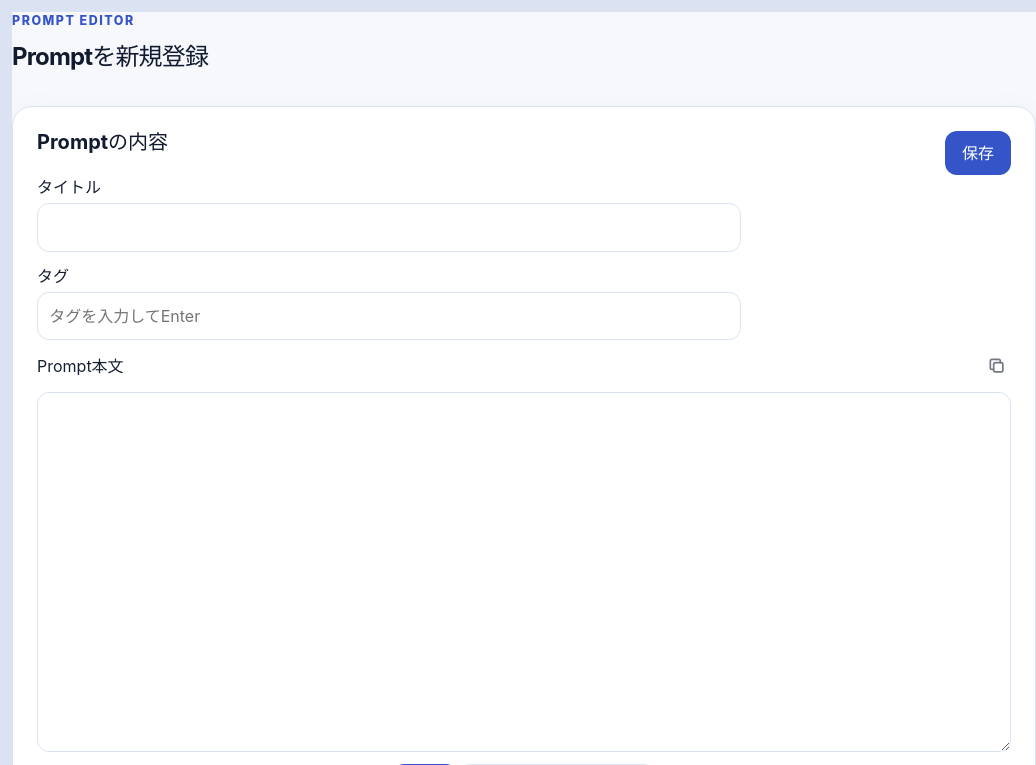
Test: PromptEditorPage › shows copy button with correct aria-label, copies draft body text, and shows check icon on success
Expected: the button named "Prompt本文をコピー" is shown, [983,352,1011,380]
In the text box labelled "Prompt本文": coordinates (524, 572) [37,392,1011,752], type "コピー対象テキスト"
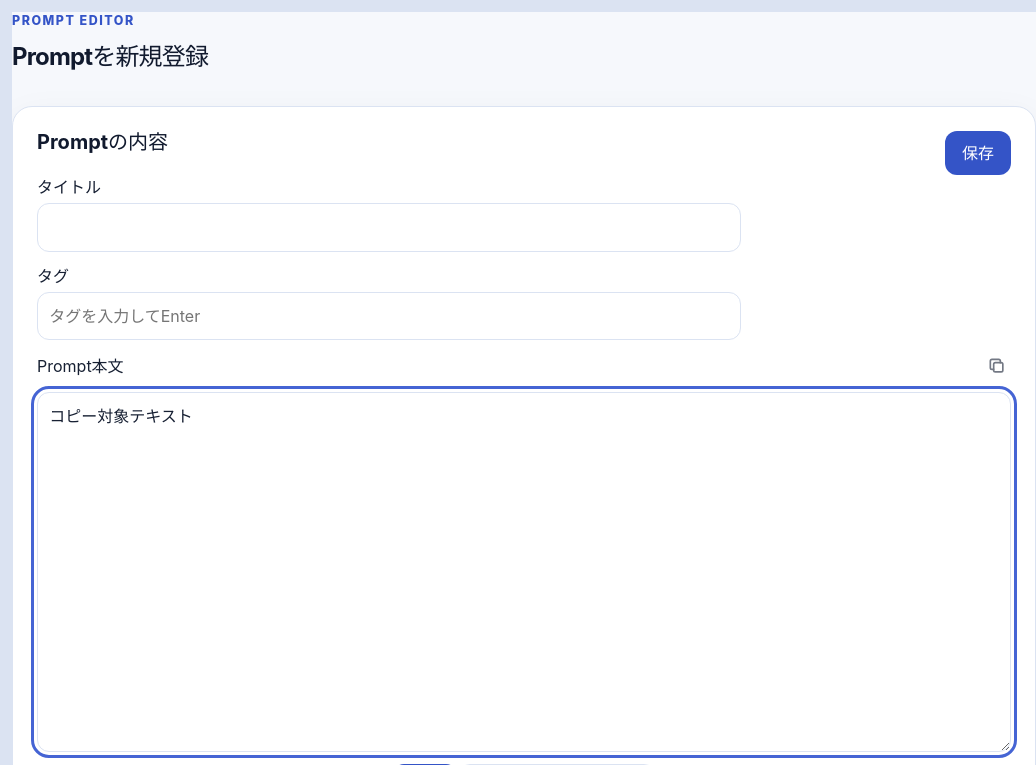
Click the button named "Prompt本文をコピー": coordinates (997, 366) [983,352,1011,380]
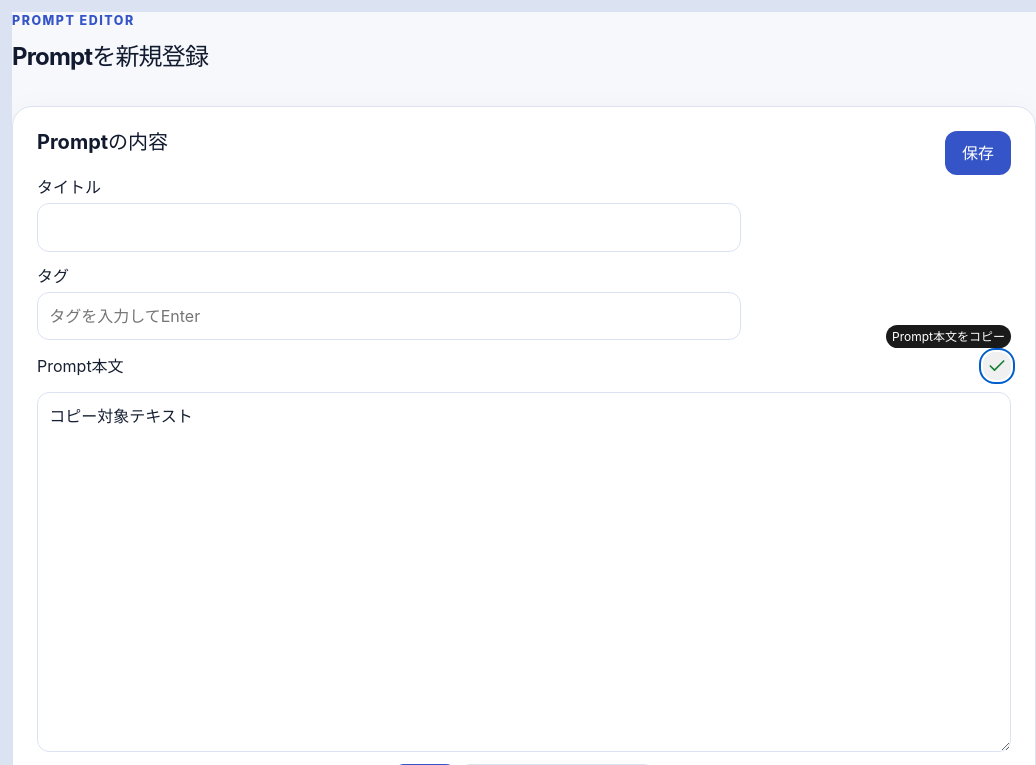
Expected: the icon is shown, [987,356,1007,376]
